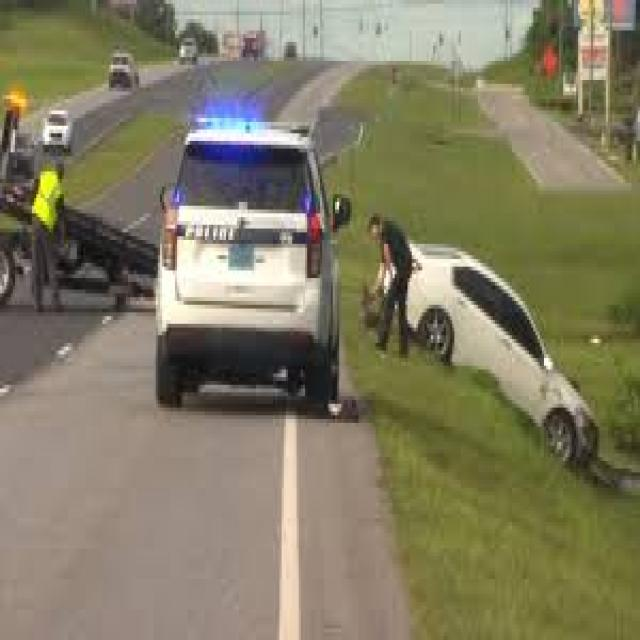cop: (156, 106, 346, 412)
